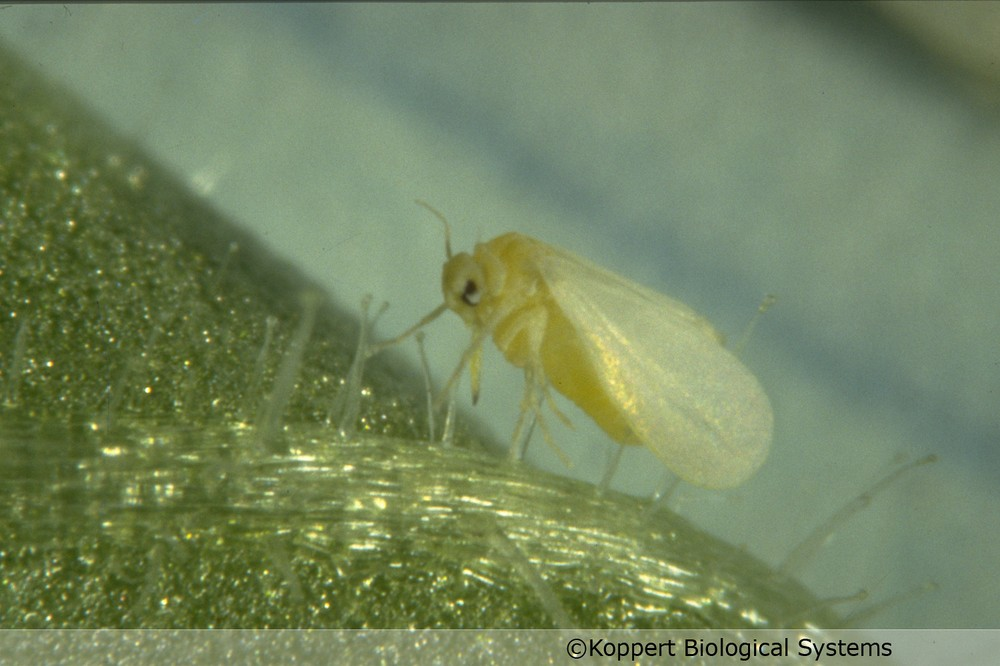Mosca Blanca: (358, 193, 803, 528)
